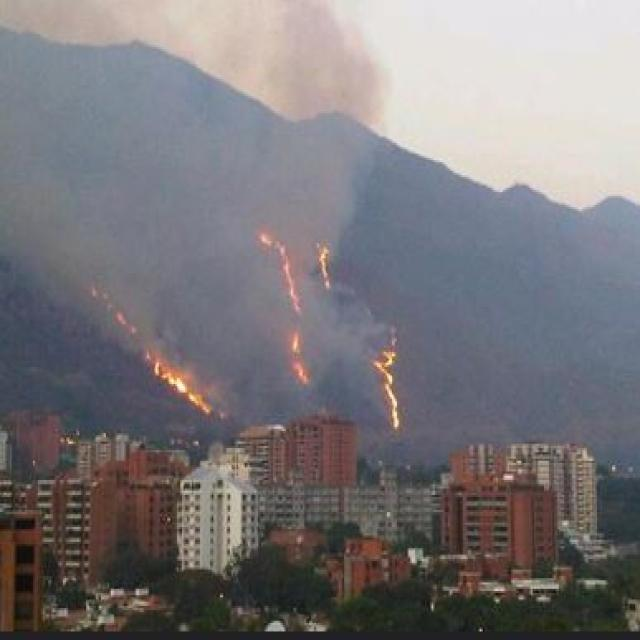Fire: (92, 272, 216, 421), (256, 223, 337, 392), (368, 316, 402, 434)
Smoke: (0, 0, 387, 216)
